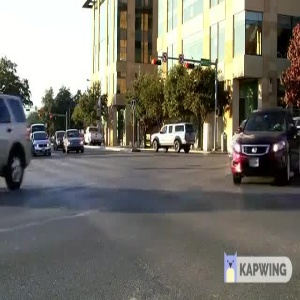car: (222, 108, 300, 194)
suv: (147, 120, 198, 157)
